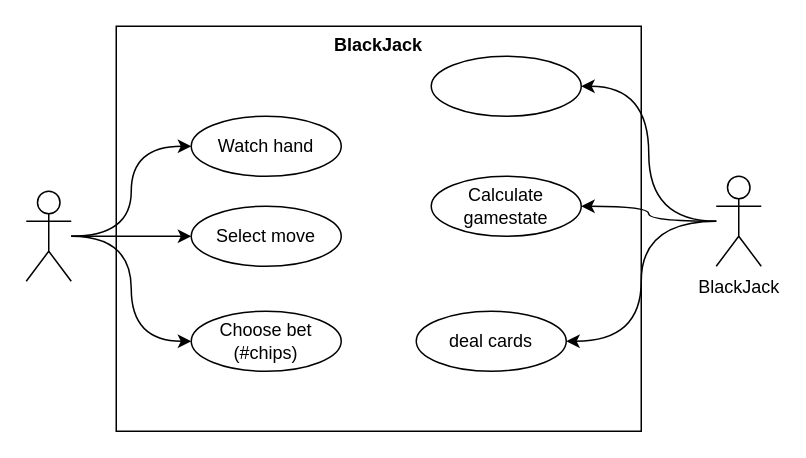
This 806x458 diagram has some shape labels left out. The shapes that lost their labels are listed below. From the top down, each one's box as (x1, y1, x2, y2) in pixels, then its label:
(430, 55, 581, 116): Pay chips
(25, 190, 71, 281): Actor
